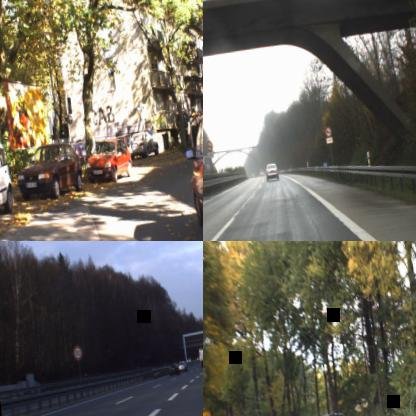no overtaking: (323, 124, 332, 138), (205, 139, 213, 152)
speed limit 80: (72, 344, 82, 360)
